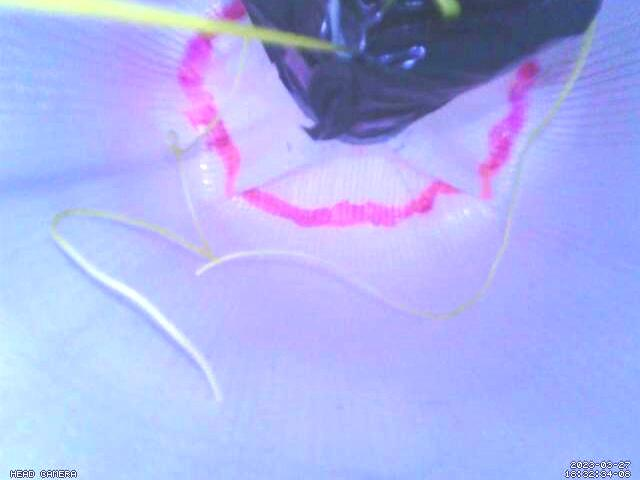head: (176, 0, 542, 229)
